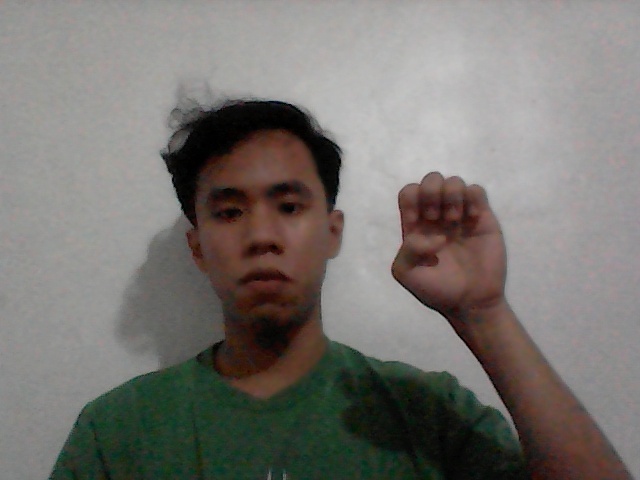E: (368, 151, 533, 343)
